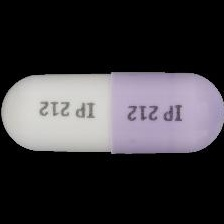0904-6187: (0, 0, 224, 224)
